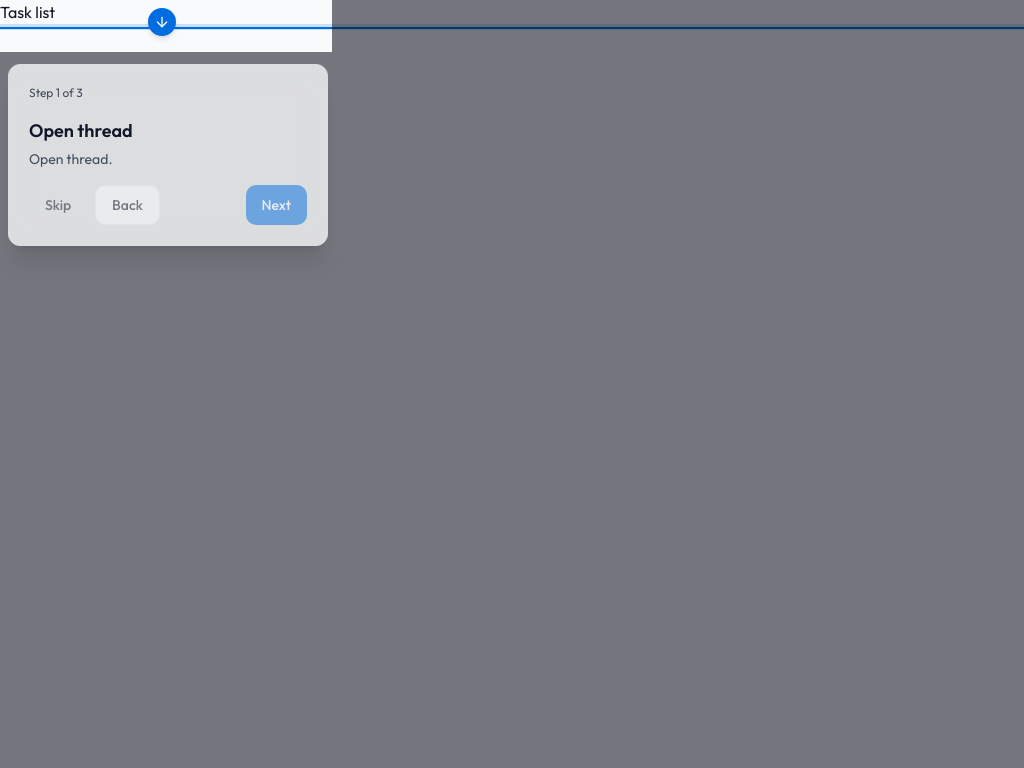
Test: OnboardingGuide breadcrumb transitions › advances to breadcrumb step after task interaction
The width and height of the screenshot is (1024, 768).
Expected: the heading "Open thread" is shown, [29,119,133,142]
Click the text "Task list". click: (512,12)
box: [0,0,1023,24]
Wait 500 ms
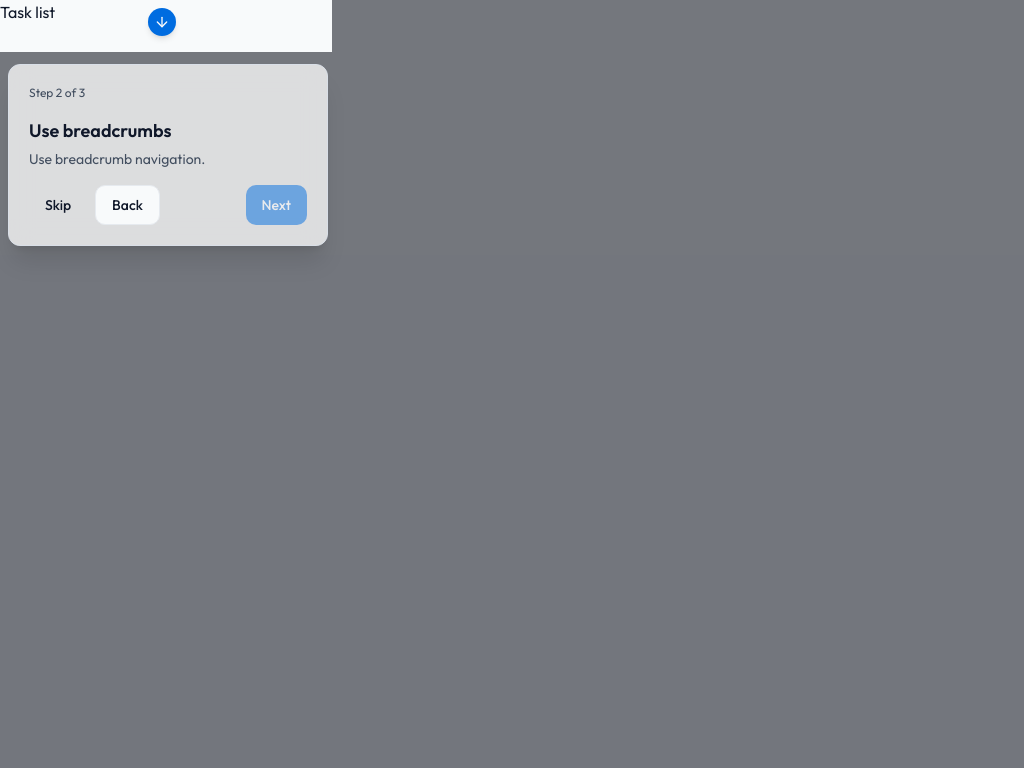
Expected: the heading "Use breadcrumbs" is shown, [29,119,172,142]
